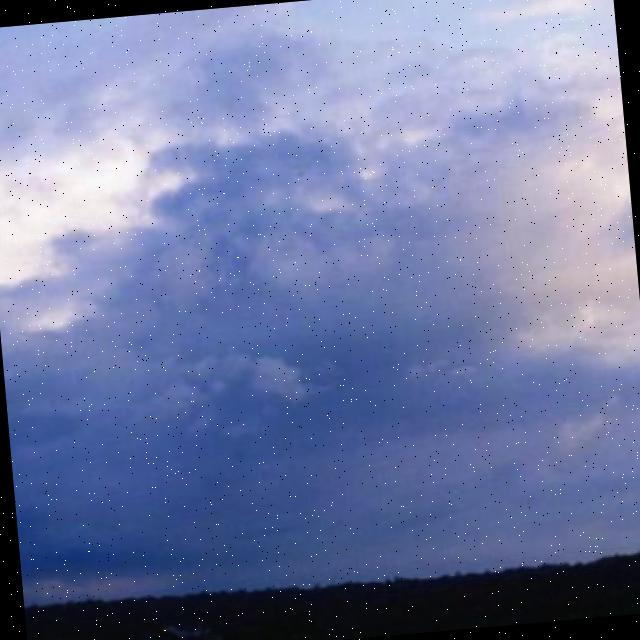Sc: (1, 1, 640, 528)
